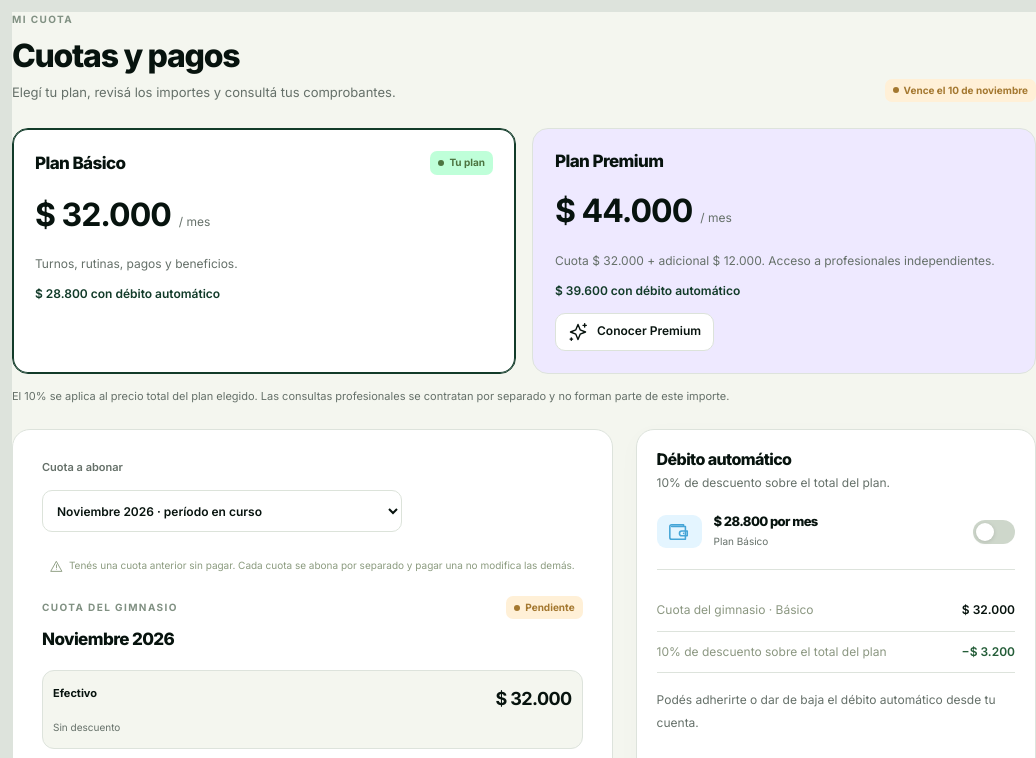
Test: Cuotas y pagos: cuota a abonar y débito programado › permite elegir una cuota vencida anterior; esa cuota no ofrece débito automático
Expected: the text "una cuota anterior sin pagar" is shown, top-left (42, 558), bottom-right (583, 574)
Select "Octubre 2026 · vencida" in the dropdown labelled "Cuota a abonar": (222, 511) top-left (42, 490), bottom-right (402, 532)
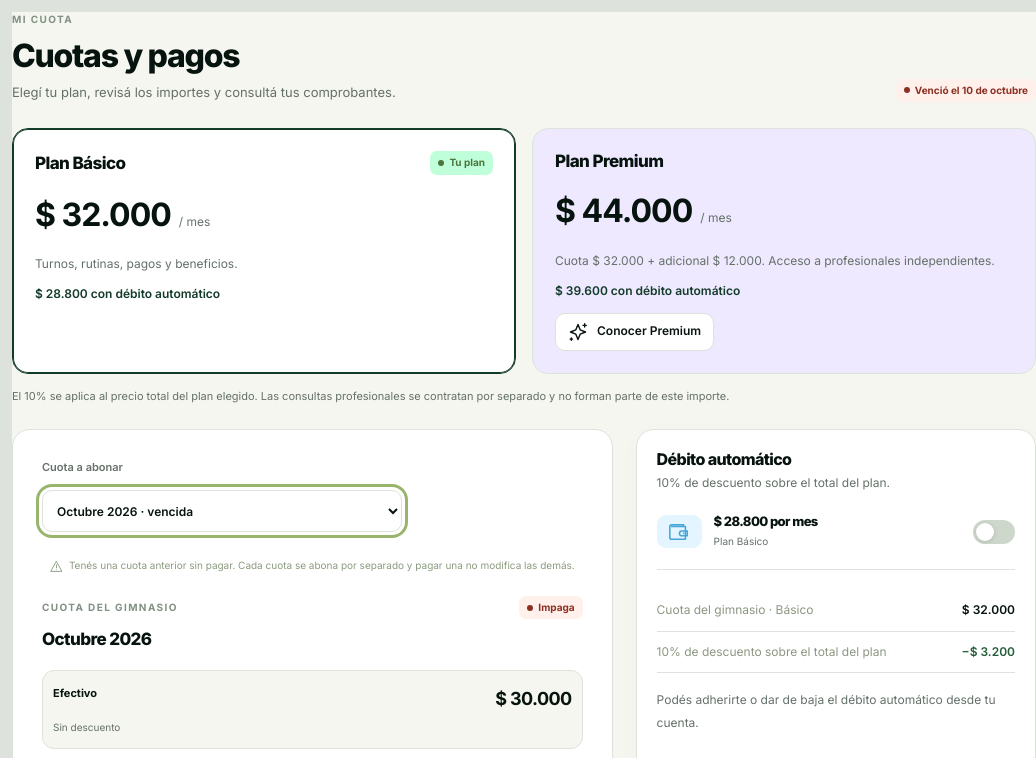
Expected: the text "Efectivo" is shown, top-left (53, 686), bottom-right (97, 700)
Expected: the heading "Octubre 2026" is shown, top-left (42, 629), bottom-right (152, 649)
